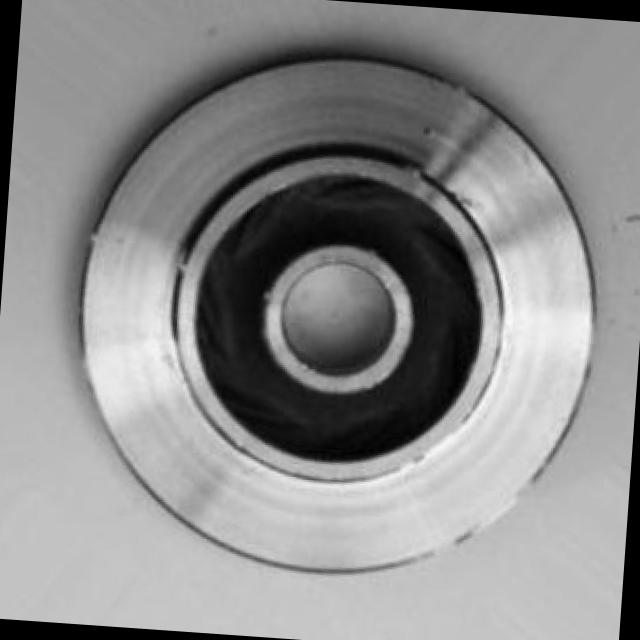Defect: (413, 118, 443, 144)
